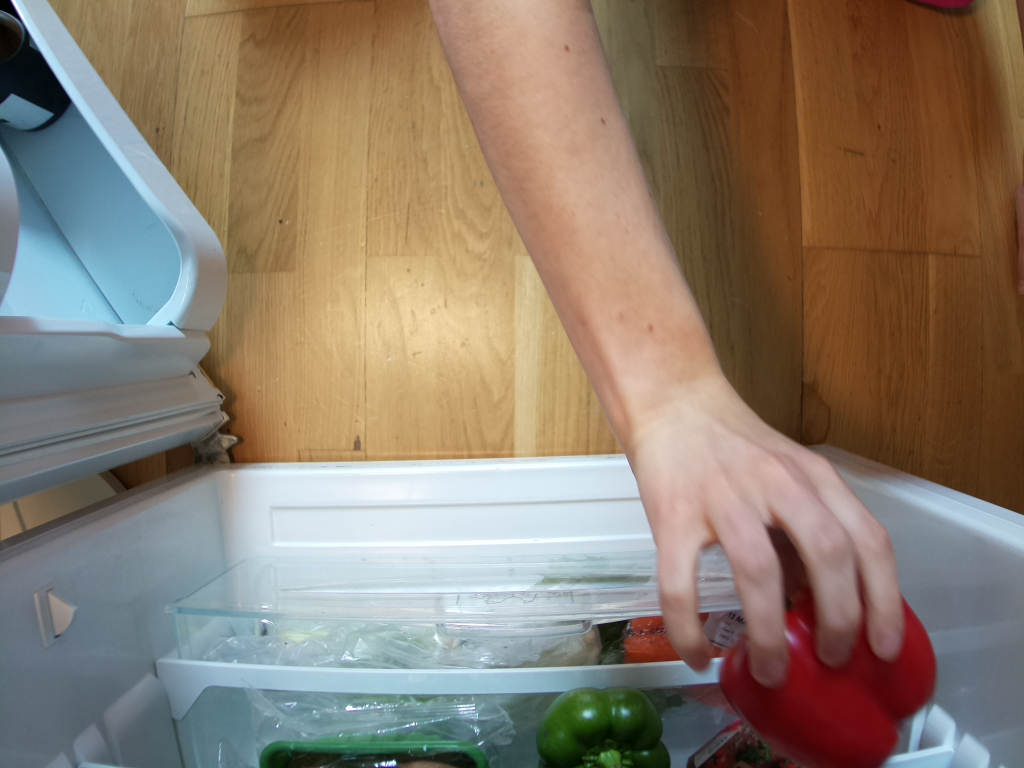pepper: (714, 549, 940, 768), (538, 686, 664, 768)
